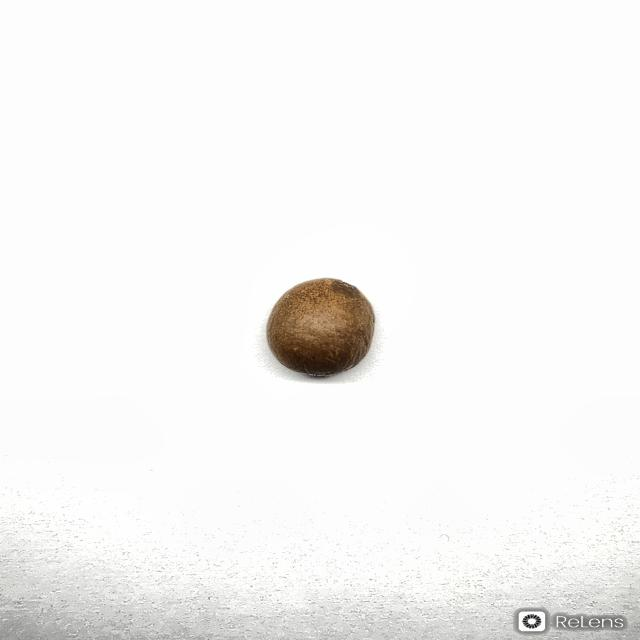Good bean: (265, 277, 375, 377)
